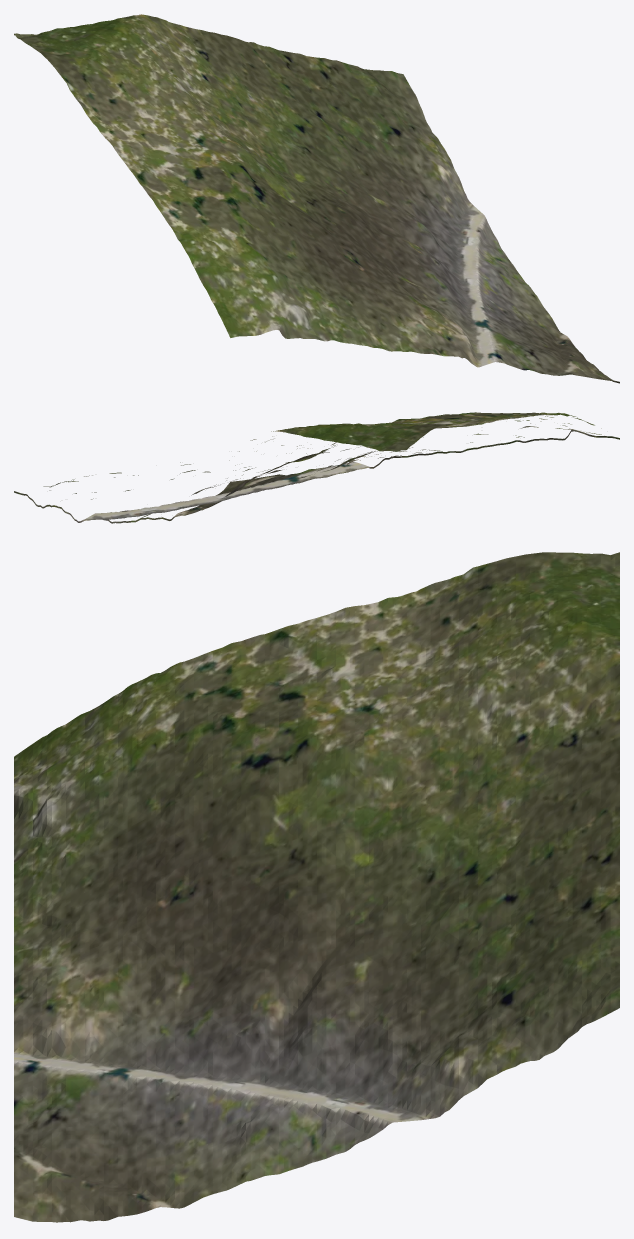
The picture shows the model from 3 angles, top to bottom: view 1: azimuth 30°, elevation 25°; view 2: azimuth 150°, elevation 25°; view 3: azimuth 270°, elevation 25°; orthographic projection. The views are drawn at different scales.
Size of the model in its own units: 250 by 178 by 241.
Materials: 1 (1 with a texture image).
